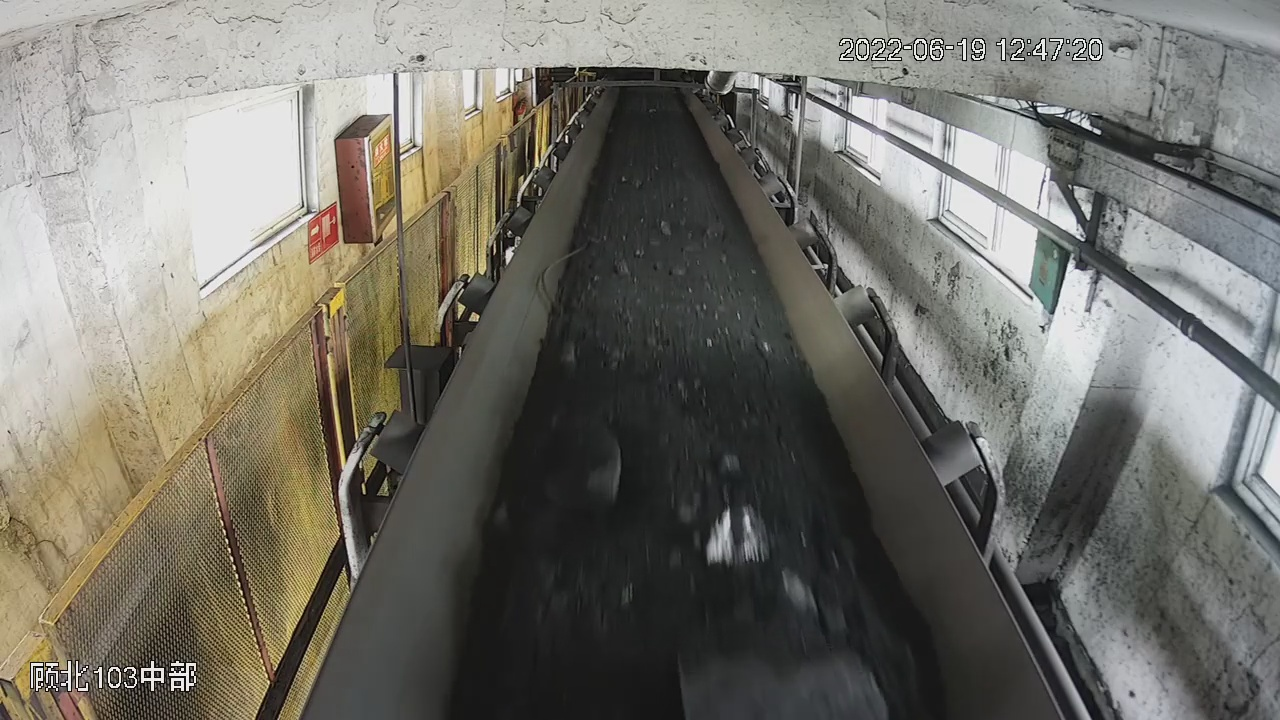gangue: (677, 638, 887, 720), (556, 421, 619, 505), (705, 505, 769, 565), (785, 568, 818, 619)
